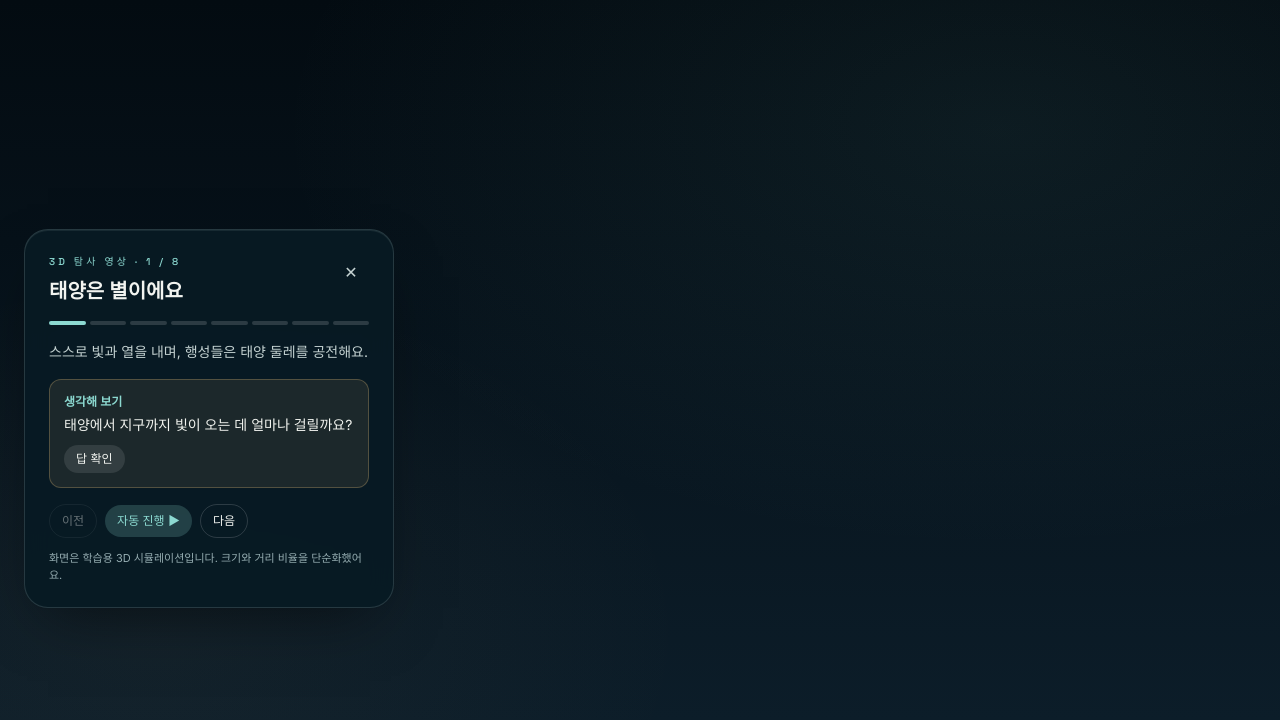
Test case: 학생용 탐사 도구 › 3D 투어에서 학습 질문을 확인하고 다음 천체로 이동한다
Click the button "답 확인" at (94, 459), box [64,445,124,473]
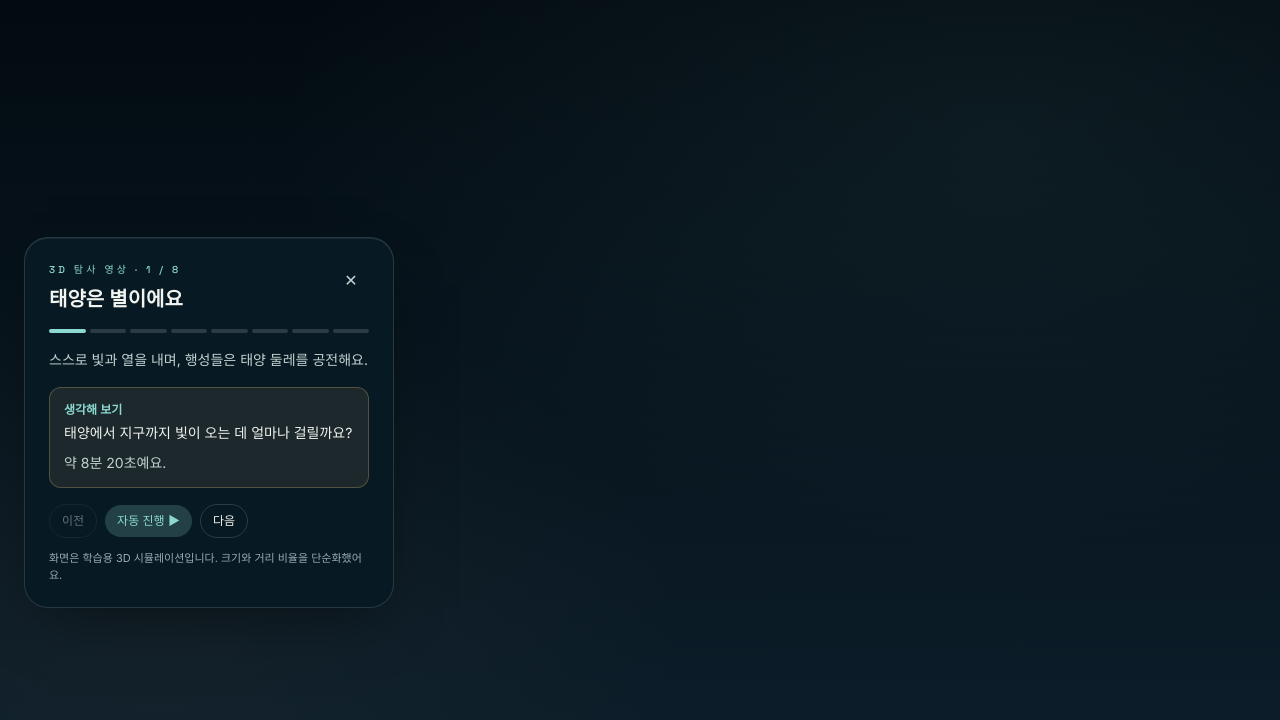
Result: the text "약 8분 20초예요." is shown at [64,454,166,471]
Click the button "다음" at (224, 521), box [200,504,248,538]
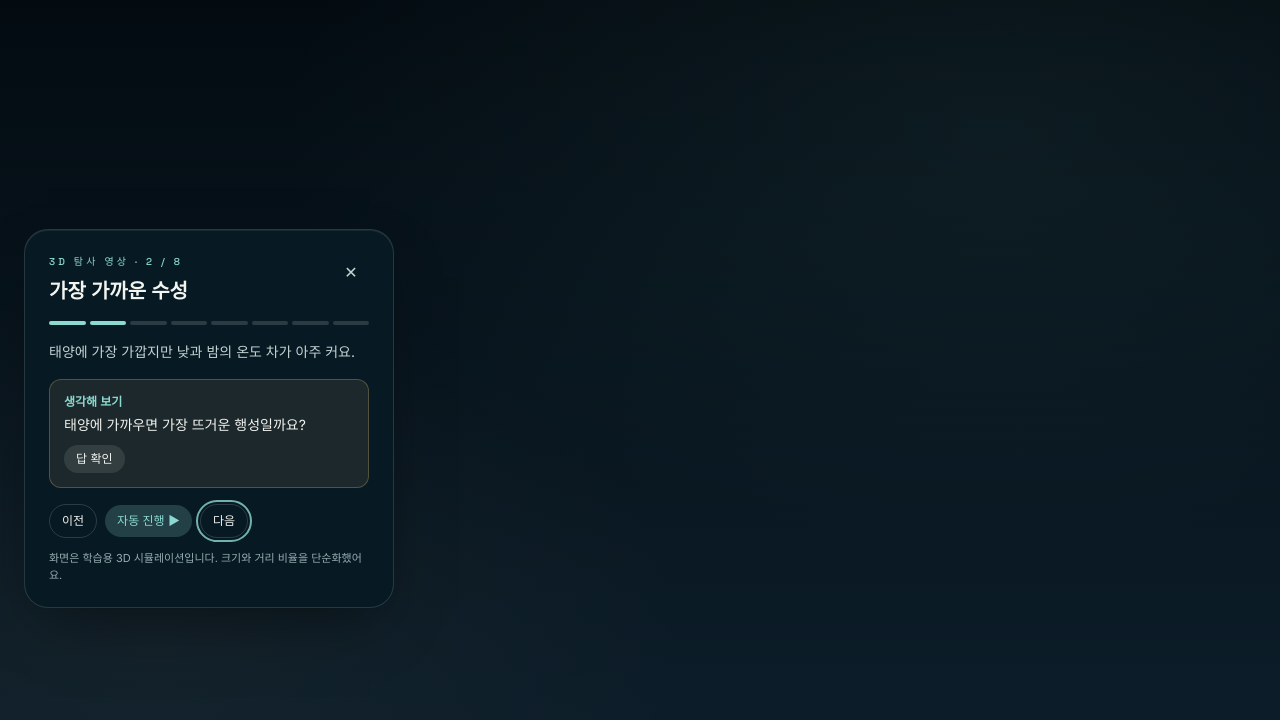
Result: the heading "가장 가까운 수성" is shown at [49,276,188,304]
